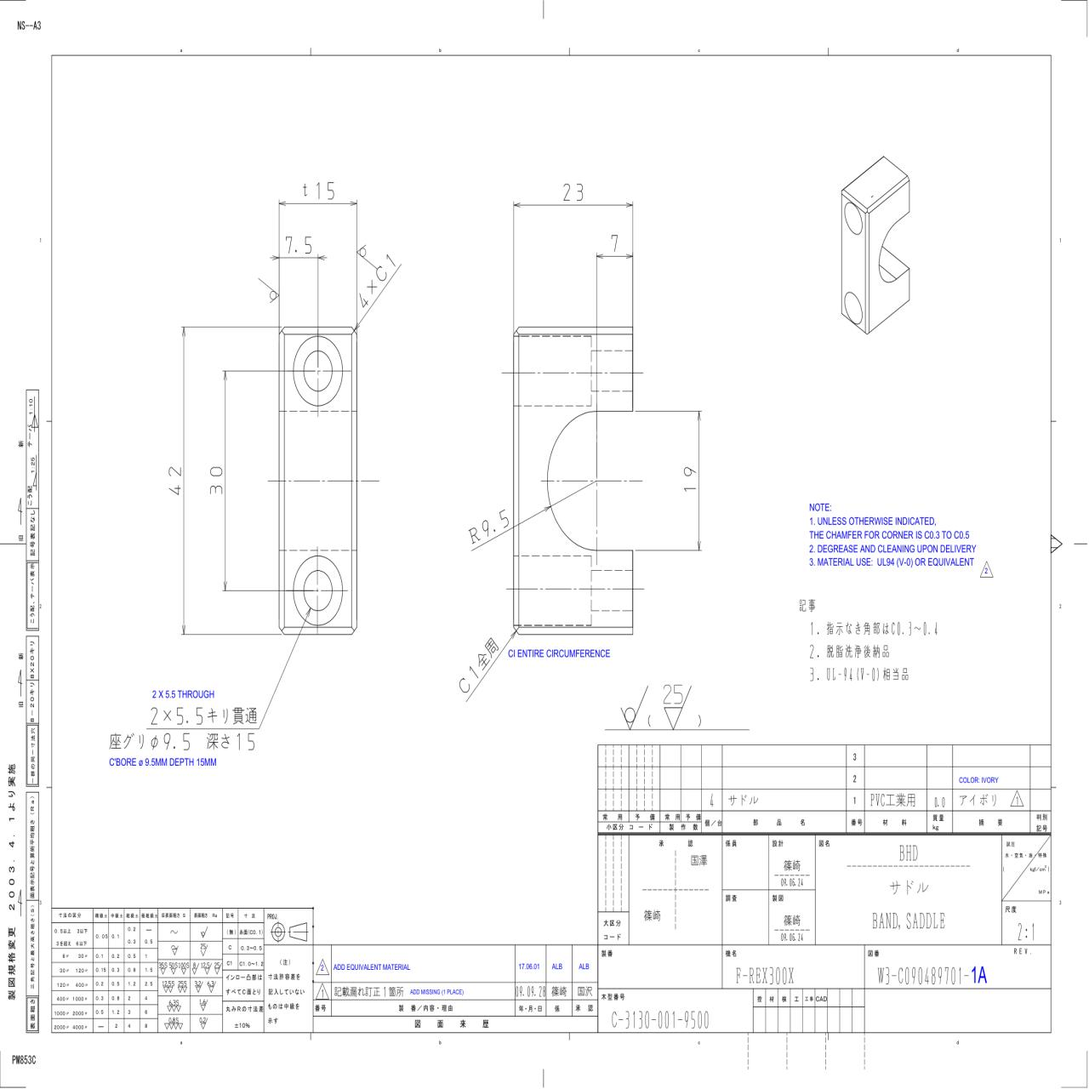basic_dimension: (285, 235, 312, 255), (563, 182, 583, 204), (209, 466, 223, 495), (169, 467, 181, 496), (684, 466, 697, 492), (611, 234, 618, 252)
dimension_chamfer_symbol: (372, 253, 397, 287)
dimension_chamfer_text: (384, 251, 399, 270)
dimension_diameter_symbol: (150, 733, 191, 752)
dimension_diameter_text: (163, 733, 190, 753)
dimension_radius_symbol: (468, 509, 510, 545)
dimension_radius_text: (479, 508, 510, 539)
dimension_thickness_symbol: (301, 180, 335, 199)
dimension_thickness_text: (314, 177, 336, 202)
surface_finish_symbol: (661, 678, 696, 737), (620, 682, 649, 730), (257, 276, 281, 305), (351, 242, 373, 266)
